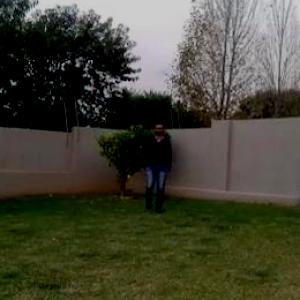follow: (144, 122, 168, 216)
